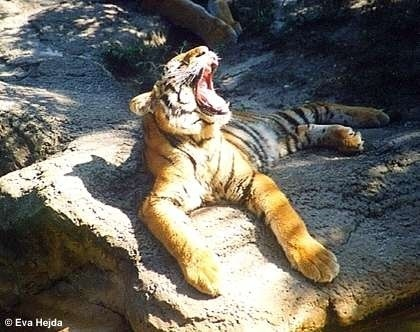tigre: (130, 45, 393, 300)
